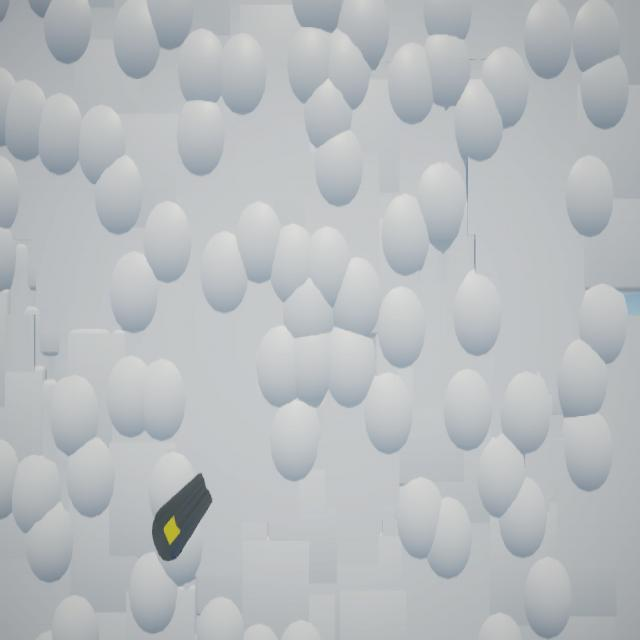handle_folk: (153, 473, 214, 564)
